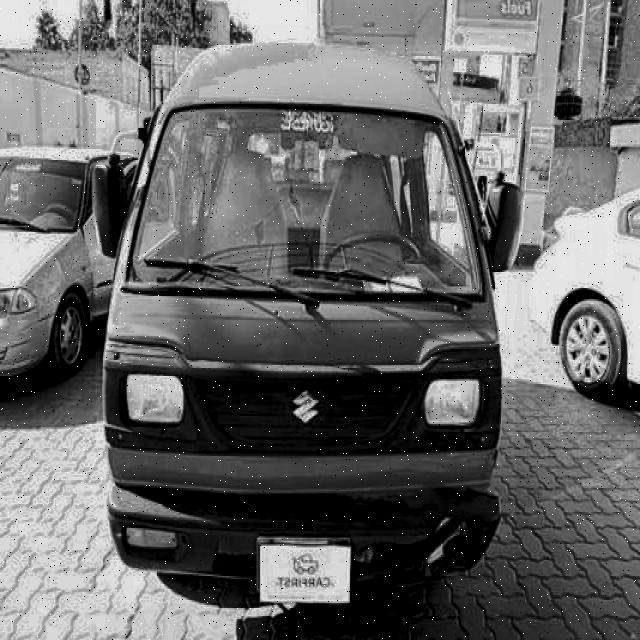LCV: (95, 45, 515, 605)
